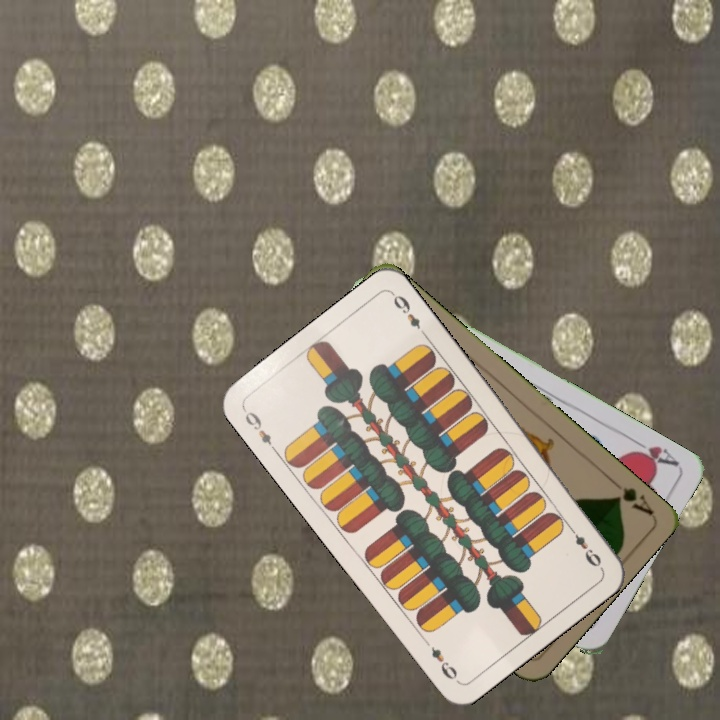E9: (563, 521, 605, 571), (240, 405, 280, 456)
GA: (605, 474, 656, 517)
HA: (625, 434, 681, 470)
